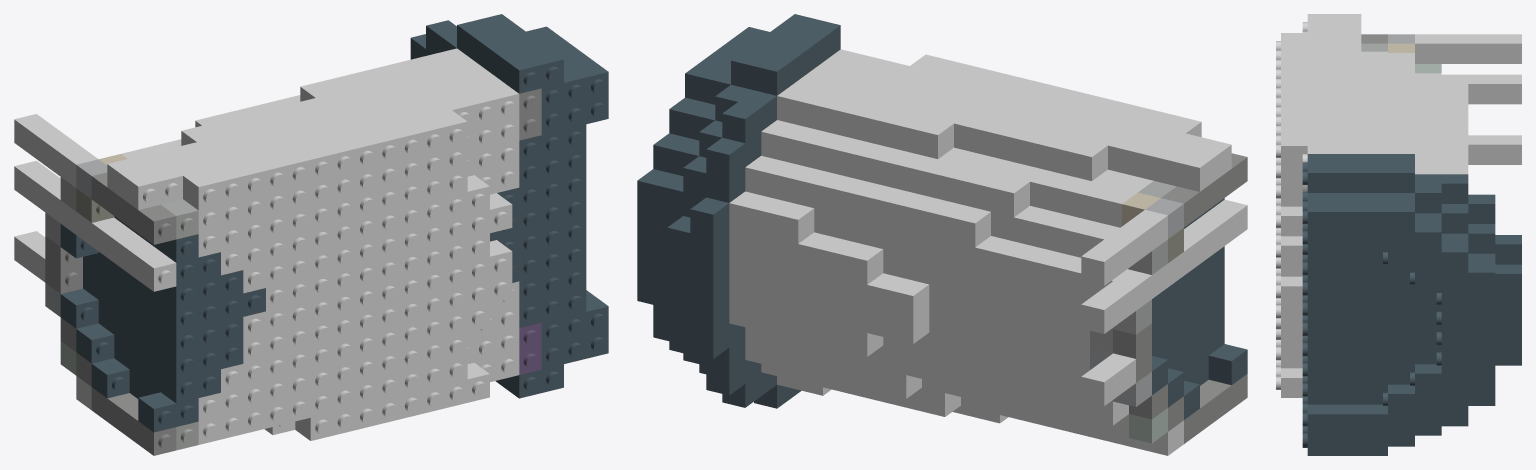
Rendered from full.glb.
The picture shows the model from 3 angles, left to right: view 1: azimuth 30°, elevation 25°; view 2: azimuth 150°, elevation 25°; view 3: azimuth 270°, elevation 25°; orthographic projection. The views are drawn at different scales.
Parts seen in each view (by area): view 1: world; view 2: world; view 3: world.
Boxes of the visible parts, x1,y1,x2,y2 form: world: (14, 14, 608, 455); world: (637, 14, 1247, 455); world: (1276, 14, 1521, 455).
Bounding box in the file's own units: 168 × 112 × 88.2.
